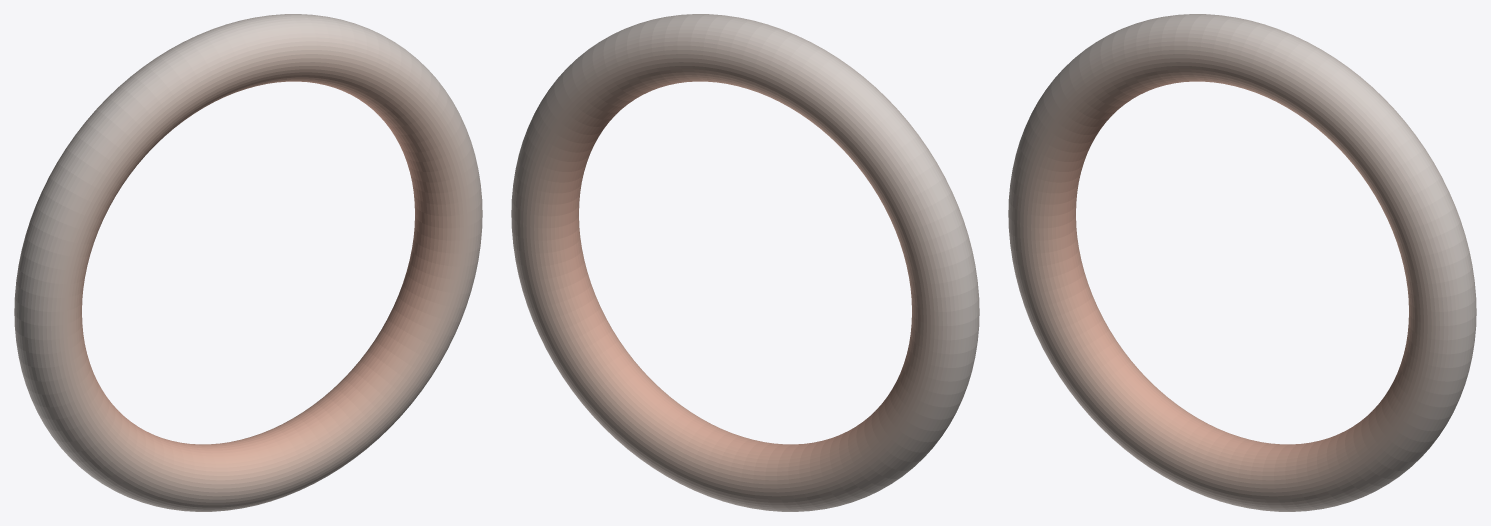
3 views of the same model, side by side, from view 1: azimuth 30°, elevation 25°; view 2: azimuth 150°, elevation 25°; view 3: azimuth 330°, elevation 25° (orthographic).
Visible parts, largest first — view 1: world; view 2: world; view 3: world.
Part boxes in pixels (box(x1,y1,x2,y2)): world: box(14, 14, 482, 511); world: box(511, 14, 979, 511); world: box(1008, 14, 1476, 511).
Size of the model in its own units: 19.87 by 19.87 by 2.53.
